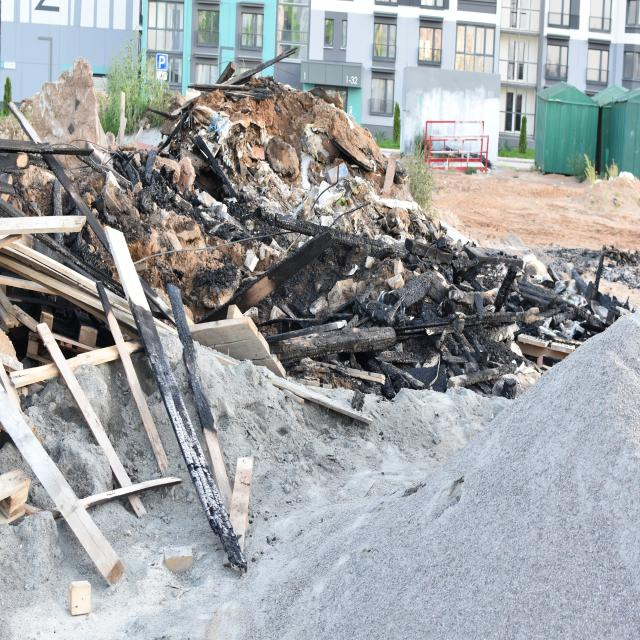entulho: (0, 212, 239, 582), (191, 248, 486, 414), (456, 258, 611, 403), (251, 198, 426, 308), (0, 128, 123, 264), (137, 84, 235, 198), (182, 49, 306, 115)
terra: (0, 314, 358, 592), (7, 109, 262, 349), (158, 49, 406, 235)
